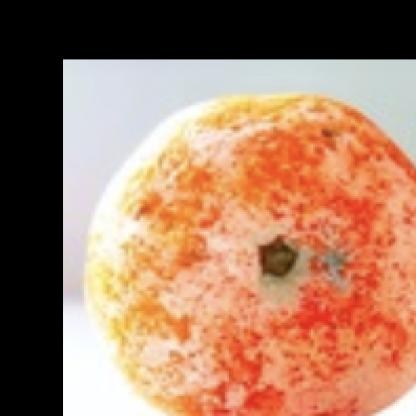rotten: (90, 95, 416, 416)
